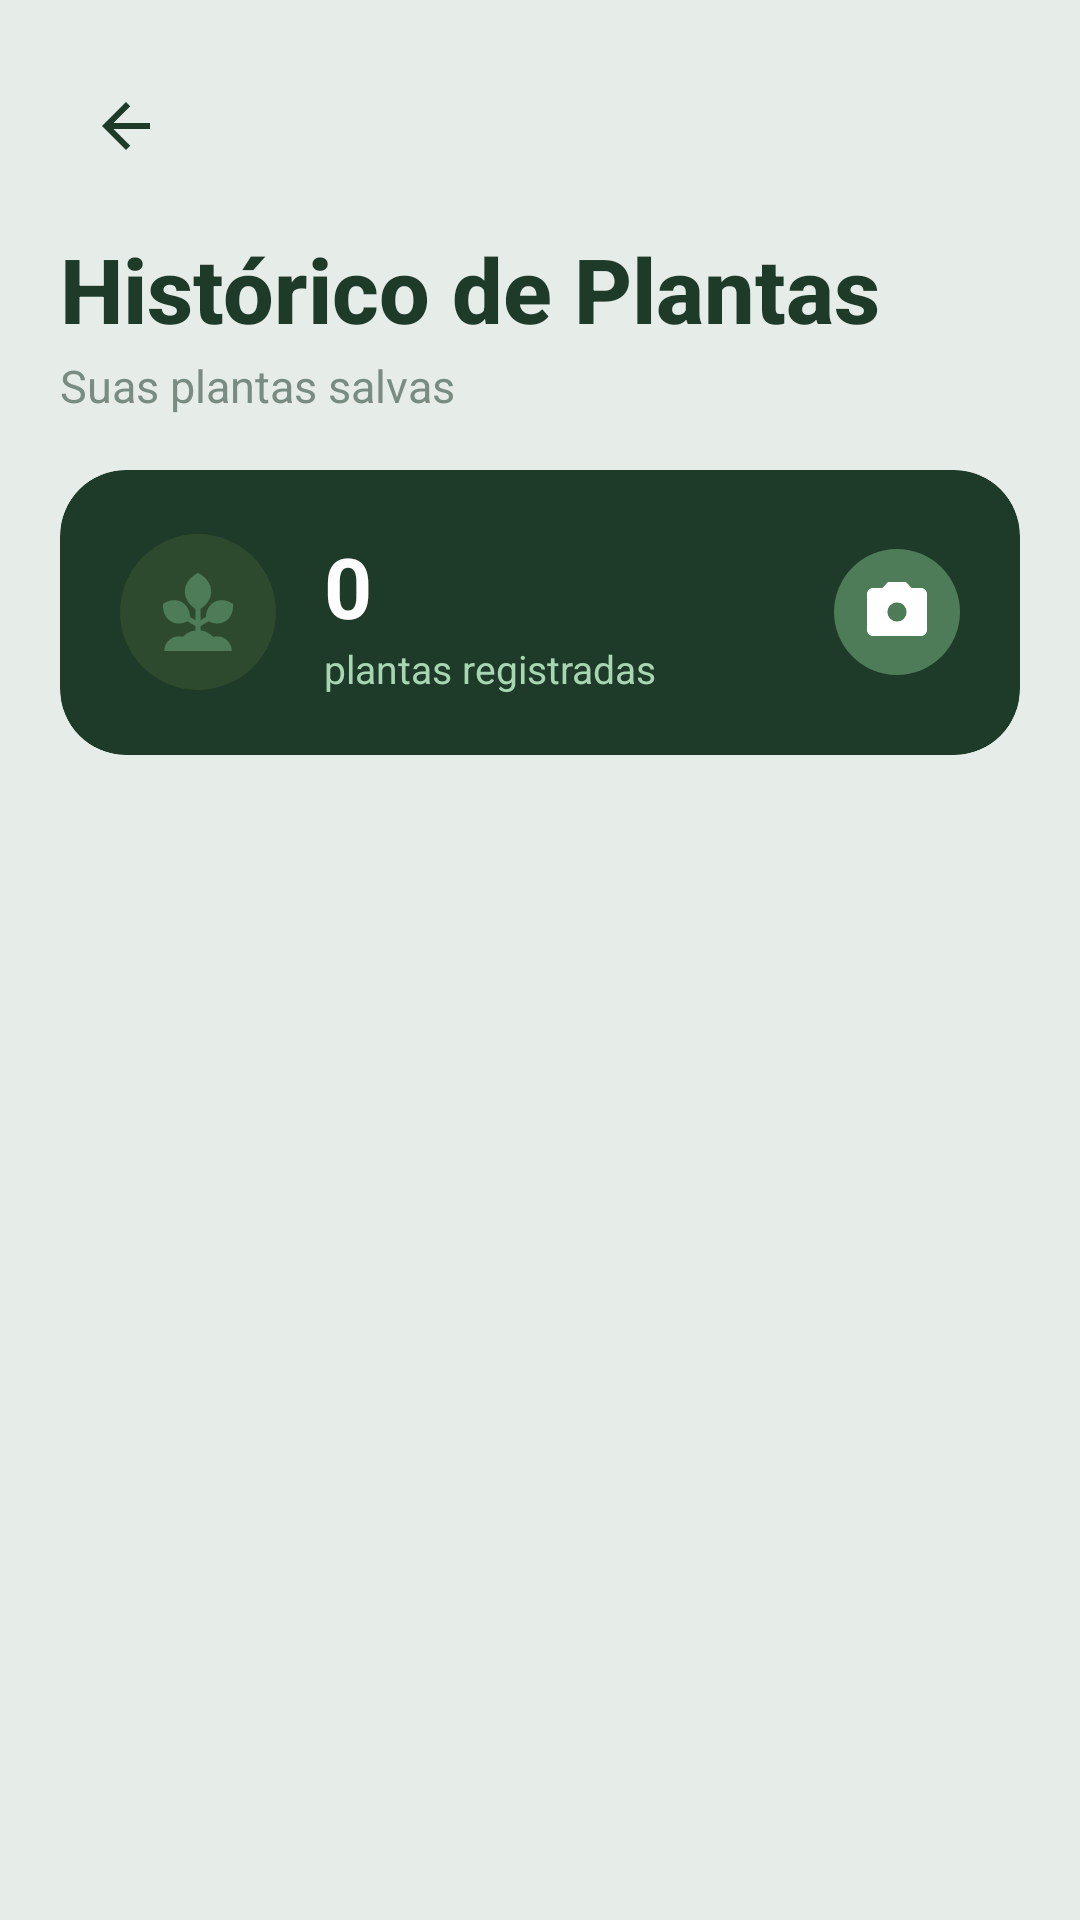

Icons on this 1080 × 1920 Android screen, each with the point to tap as (x,y):
Identificar nova planta: (897,612)
Voltar: (126,126)
